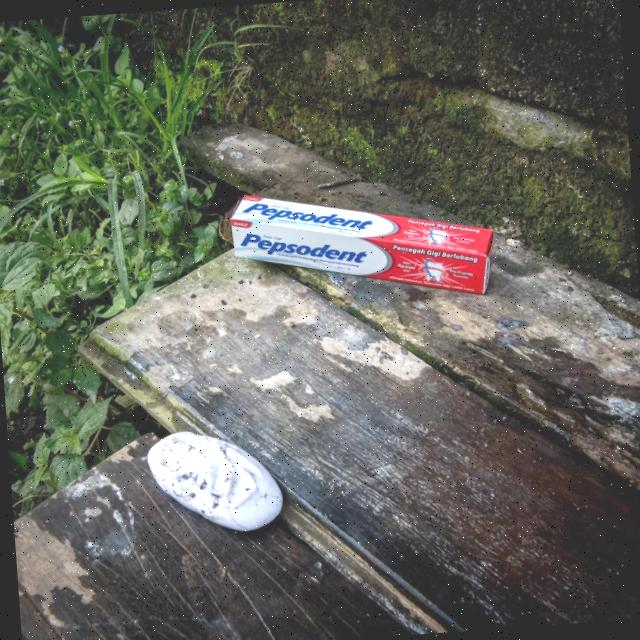Toothpaste: (229, 178, 499, 312)
